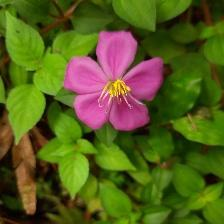malabar melastome: (64, 32, 167, 136)
